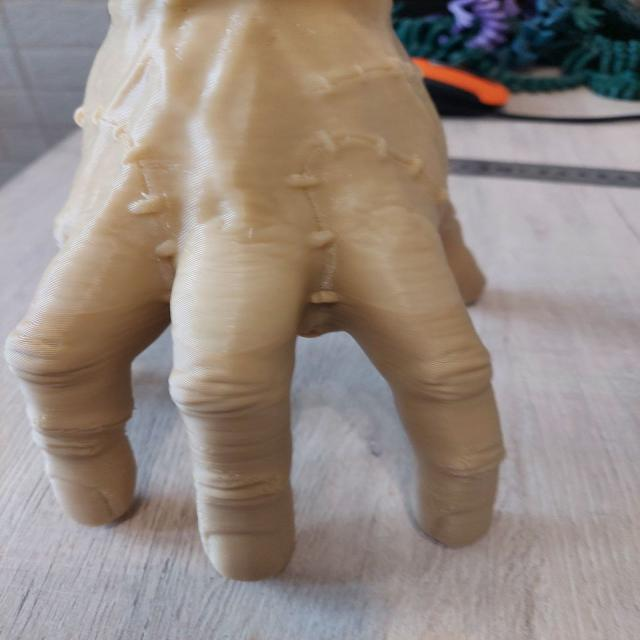Without deffect: (10, 1, 548, 589)
